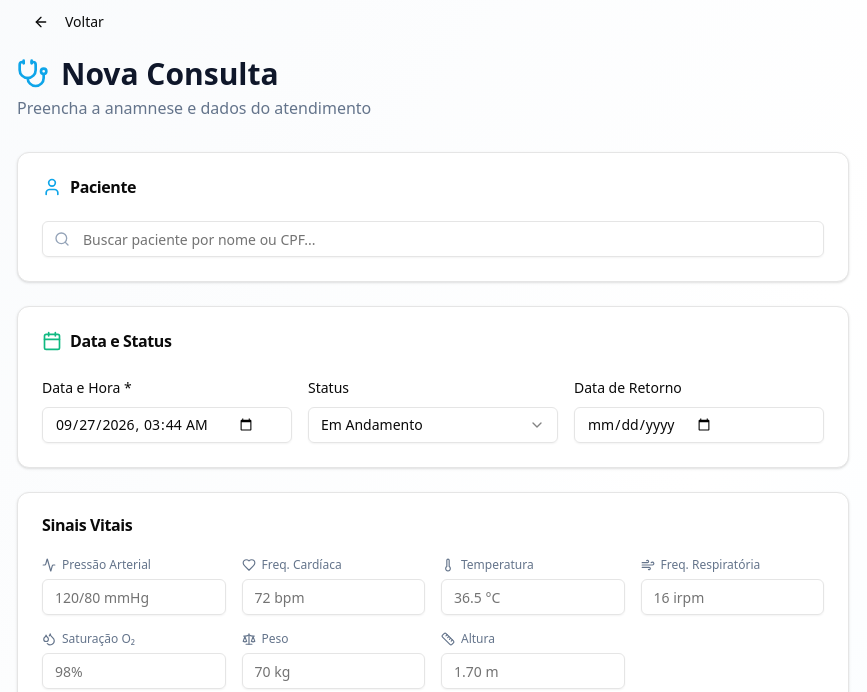
Test: active patient selection › never offers an inactive patient: the query asks for ativo and the screen has no other source
In the field with placeholder "Buscar paciente por nome ou CPF...": (433,239) [42,221,824,257], type "Bruno Lima"
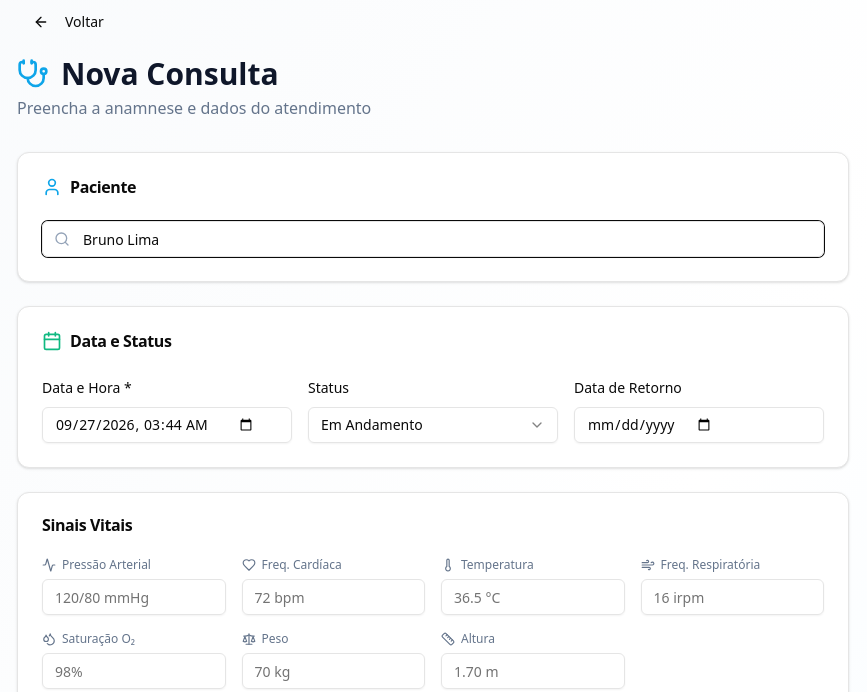
Replace the text in the field with placeholder "Buscar paciente por nome ou CPF..." below "Paciente" with "222.222.222-22": (433,239) [42,221,824,257]
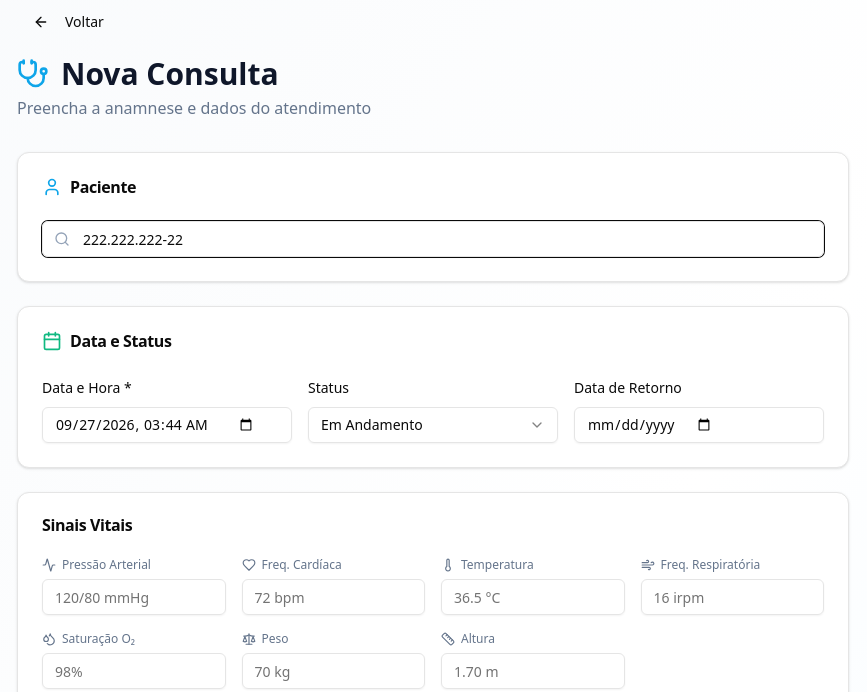
Check: the button "Bruno Lima" is not shown
Controle positivo: o mesmo campo encontra o paciente que a consulta devolveu.
Replace the text in the field with placeholder "Buscar paciente por nome ou CPF..." below "Paciente" with "Ana": (433,239) [42,221,824,257]
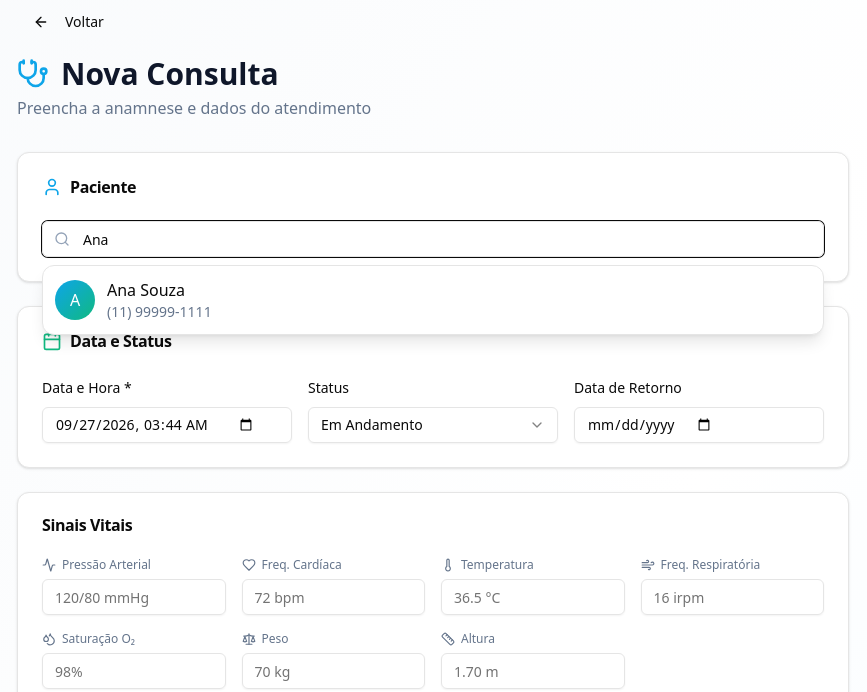
Check: the button "A Ana Souza (11) 99999-1111" is shown, box [43,266,823,334]
